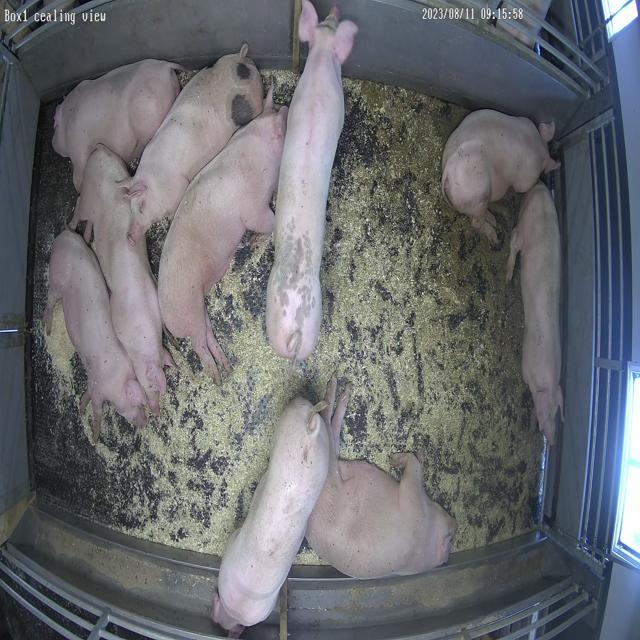Dirt: (342, 82, 524, 360)
Pig: (158, 92, 288, 382), (266, 0, 358, 360), (306, 390, 457, 579), (212, 398, 330, 638), (70, 144, 172, 414), (128, 44, 262, 242), (44, 229, 146, 436), (52, 59, 182, 190), (443, 109, 559, 240), (508, 182, 564, 446)
